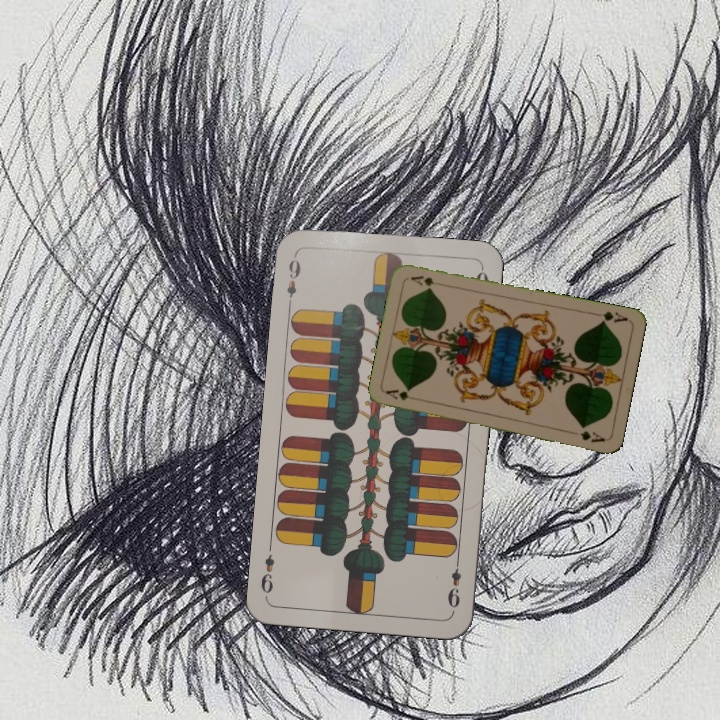E9: (282, 250, 303, 309), (444, 555, 464, 614)
GA: (590, 307, 630, 326), (382, 386, 423, 403)
